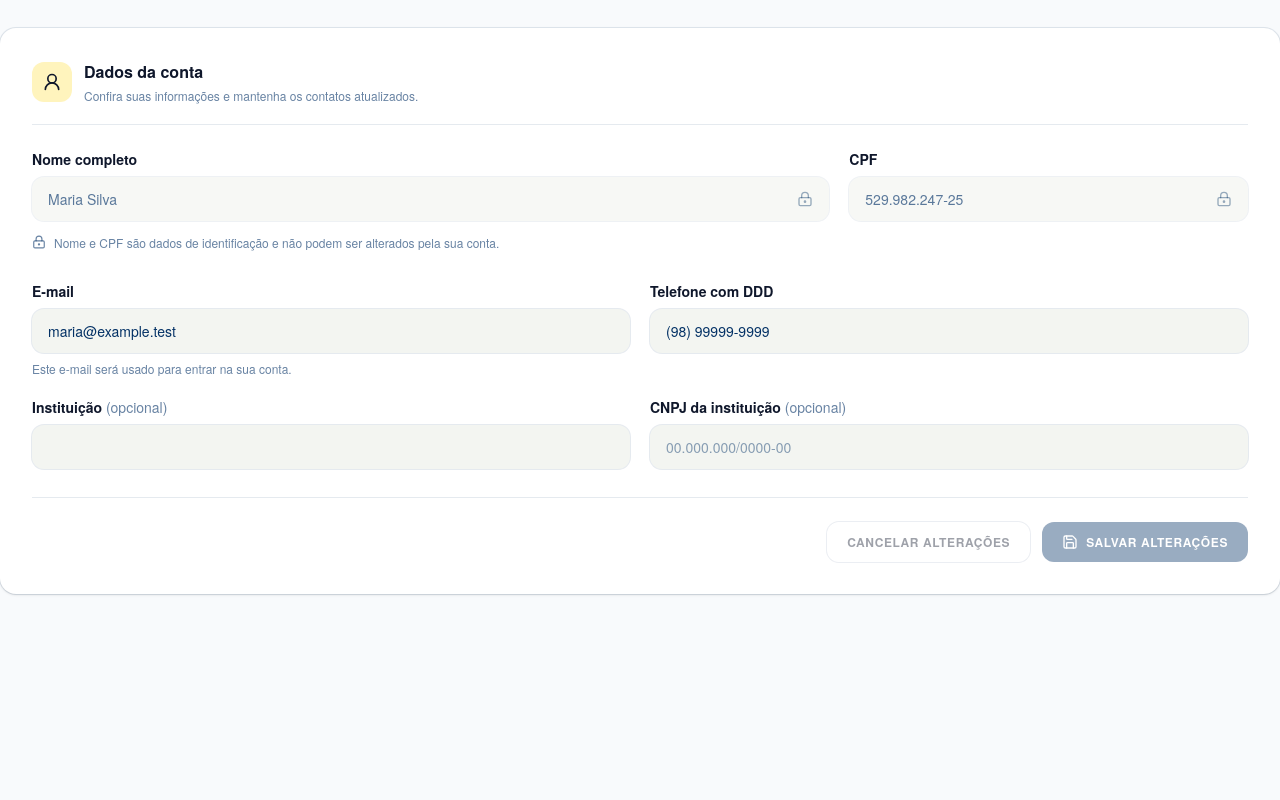
Scenario: recusa telefone inválido antes do envio
In the field labelled "Telefone com DDD": (949, 330) [650, 308, 1248, 352], type "123"
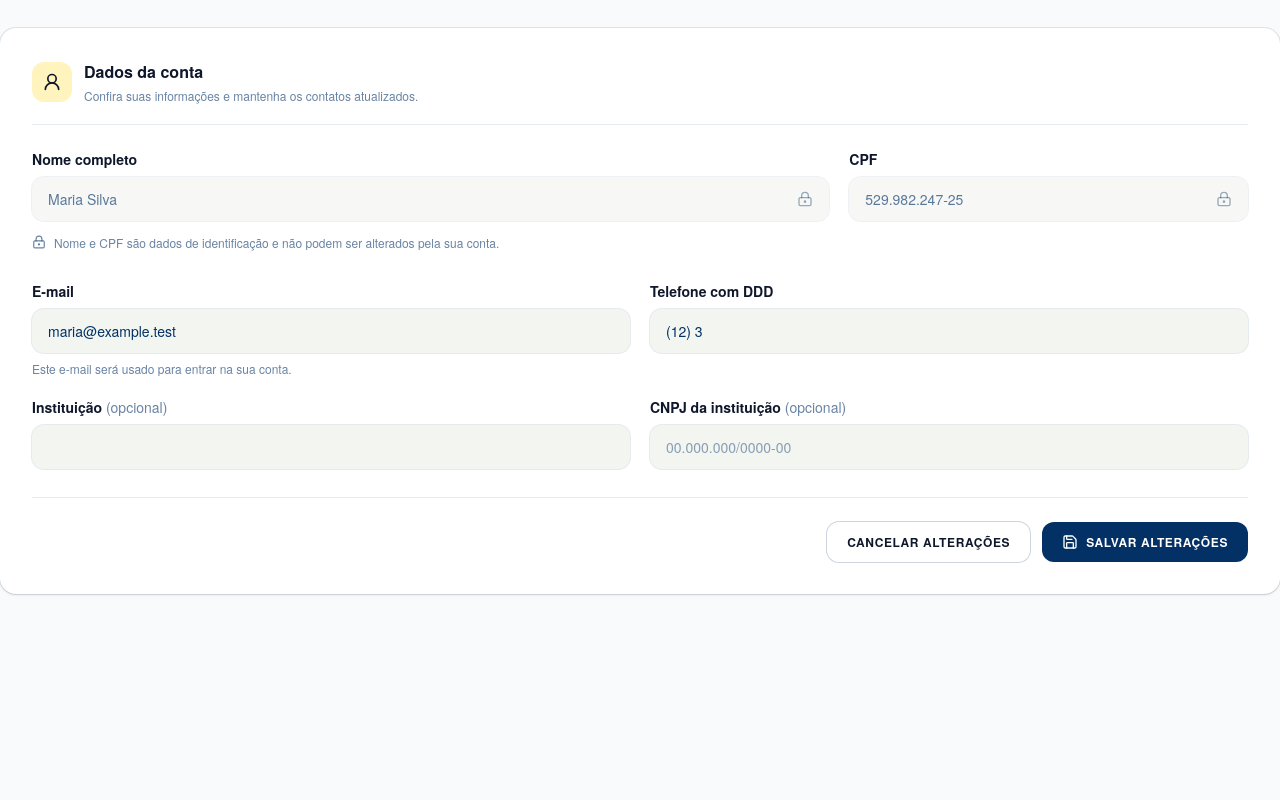
Click the button "Salvar alterações": (1145, 542) [1042, 522, 1248, 562]
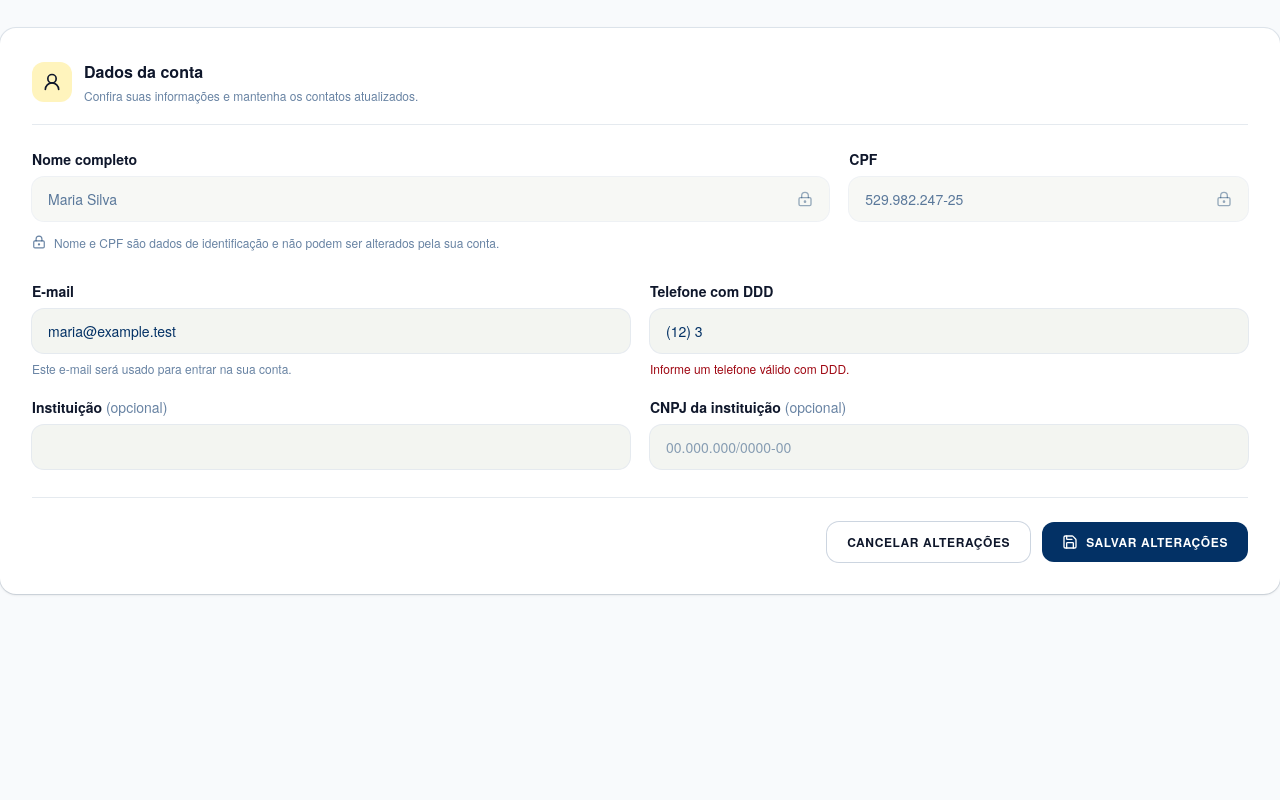
Expected: the message shows "telefone válido", [650, 360, 849, 376]
